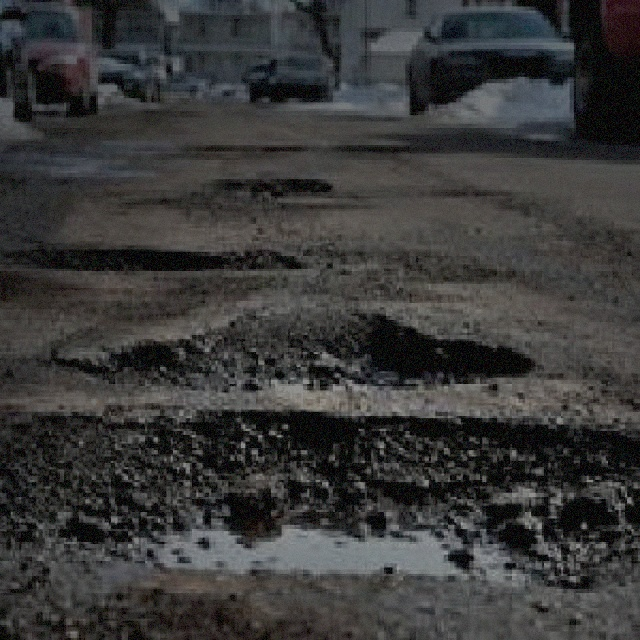pothole: (0, 408, 638, 610), (45, 305, 535, 395), (2, 237, 312, 273), (198, 170, 333, 202)
